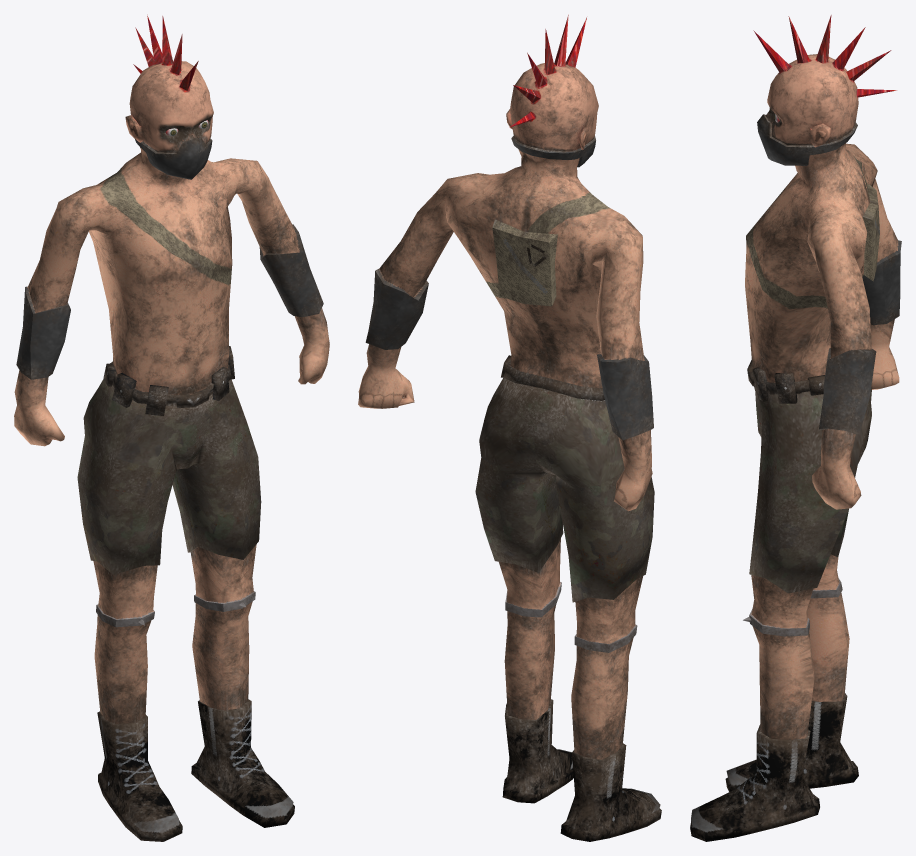
Rendered from Anim_ganar_1_npc2.0046.obj.
The picture shows the model from 3 angles, left to right: view 1: azimuth 30°, elevation 25°; view 2: azimuth 150°, elevation 25°; view 3: azimuth 270°, elevation 25°; orthographic projection. The views are drawn at different scales.
Visible parts, largest first — view 1: polySurface1; view 2: polySurface1; view 3: polySurface1.
Part boxes in pixels (x1=…): polySurface1: x1=14, y1=14, x2=329, y2=841; polySurface1: x1=358, y1=14, x2=661, y2=841; polySurface1: x1=690, y1=15, x2=901, y2=841.
Bounding box in the file's own units: 4.11 × 10.35 × 2.49.
